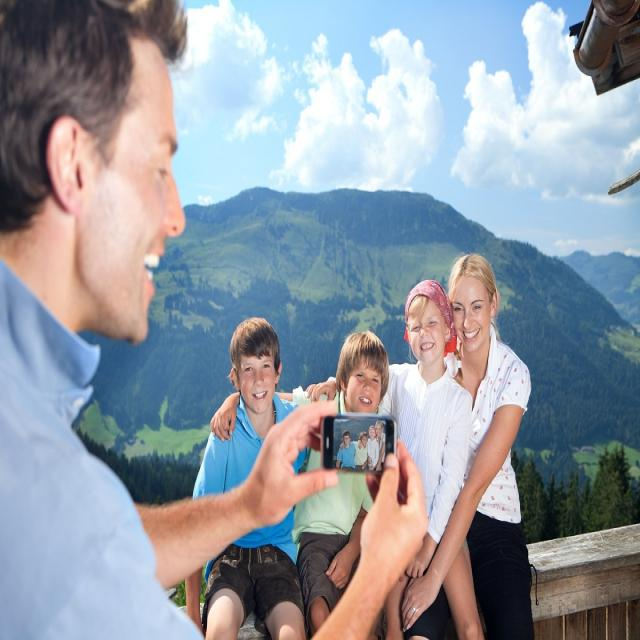body: (0, 0, 424, 638), (209, 324, 391, 640), (401, 251, 538, 639), (376, 276, 488, 640), (184, 318, 310, 639), (333, 417, 385, 473)
